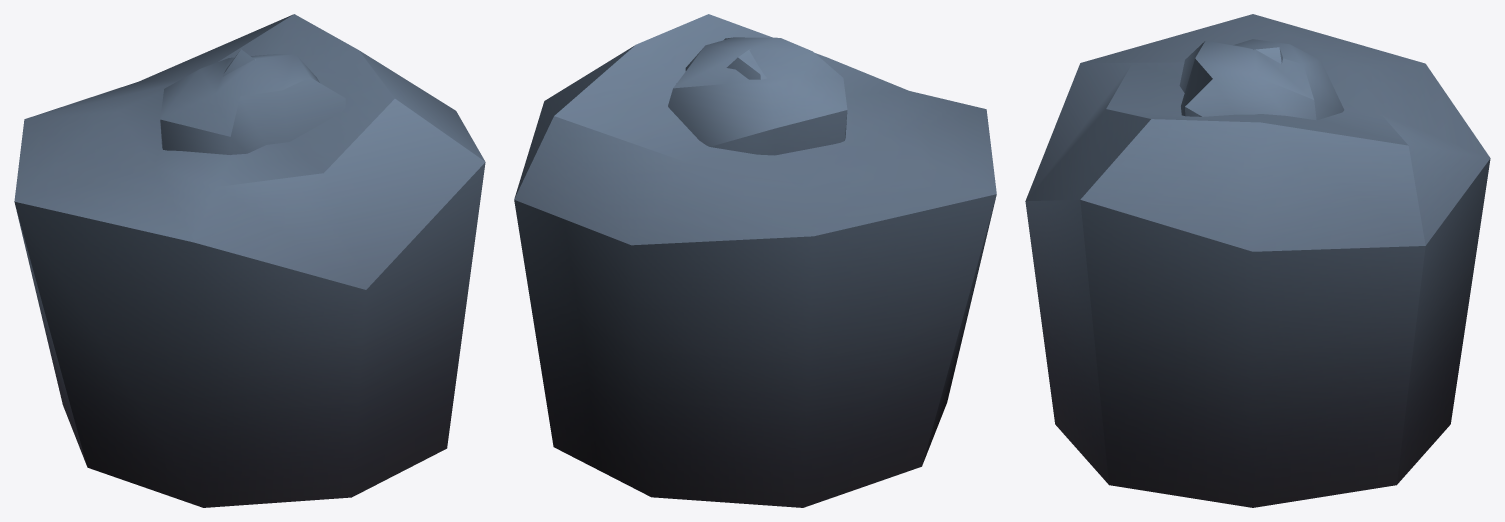
The model's file is mountain.fbx.
The picture shows the model from 3 angles, left to right: view 1: azimuth 30°, elevation 25°; view 2: azimuth 150°, elevation 25°; view 3: azimuth 270°, elevation 25°; orthographic projection. The views are drawn at different scales.
Visible parts, largest first — view 1: rock_07, rock_06; view 2: rock_07, rock_06, rock_05; view 3: rock_07, rock_06.
Boxes of the visible parts, x1,y1,x2,y2 form: rock_07: (14, 14, 485, 507); rock_06: (160, 54, 345, 154); rock_07: (514, 14, 996, 507); rock_06: (668, 37, 847, 155); rock_05: (726, 49, 766, 79); rock_07: (1025, 14, 1490, 507); rock_06: (1179, 39, 1344, 120).
Bounding box in the file's own units: 11.66 × 9.29 × 10.4.
